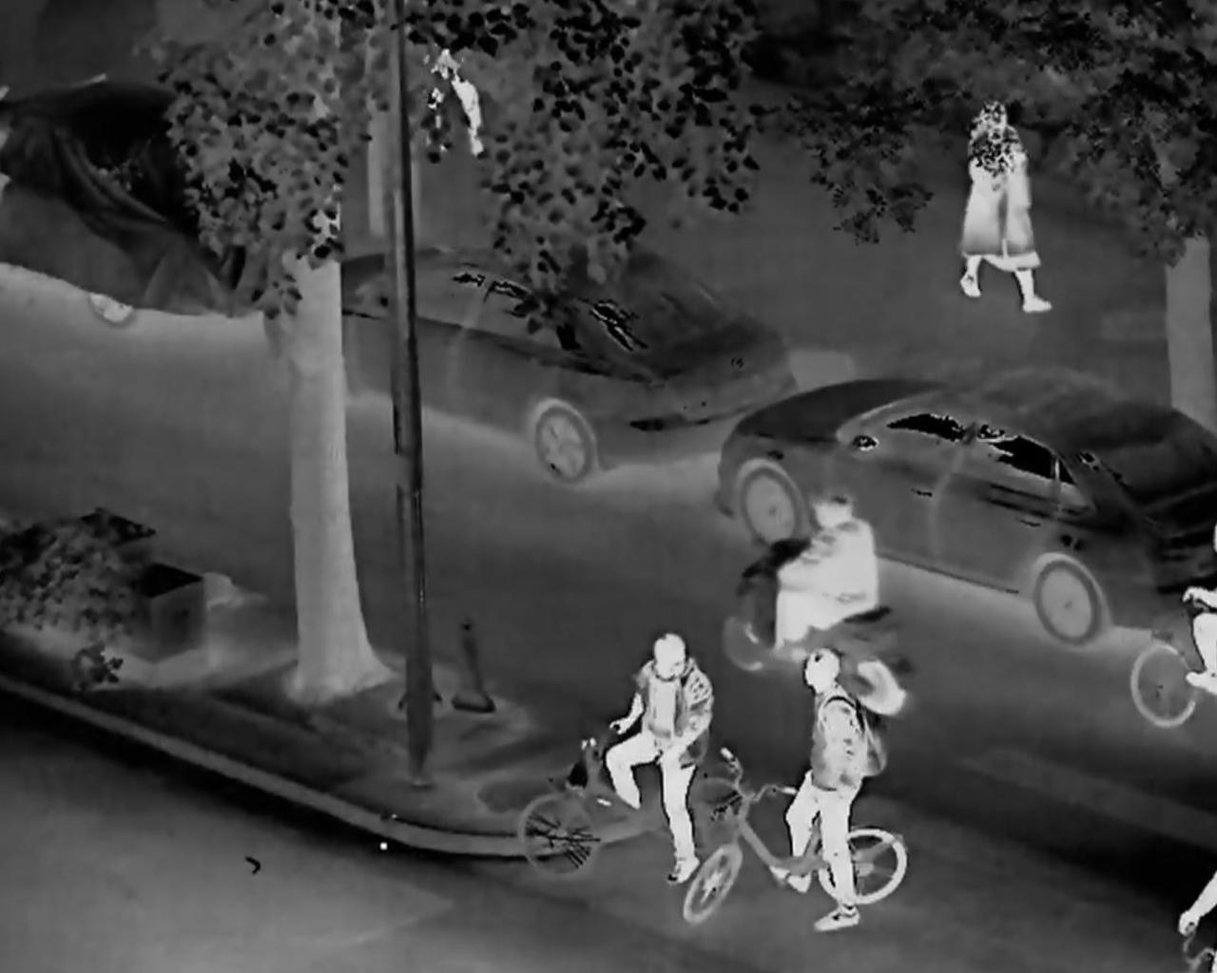person: (778, 646, 908, 932), (586, 622, 714, 898), (956, 95, 1059, 330), (776, 467, 890, 661), (410, 29, 487, 170)
